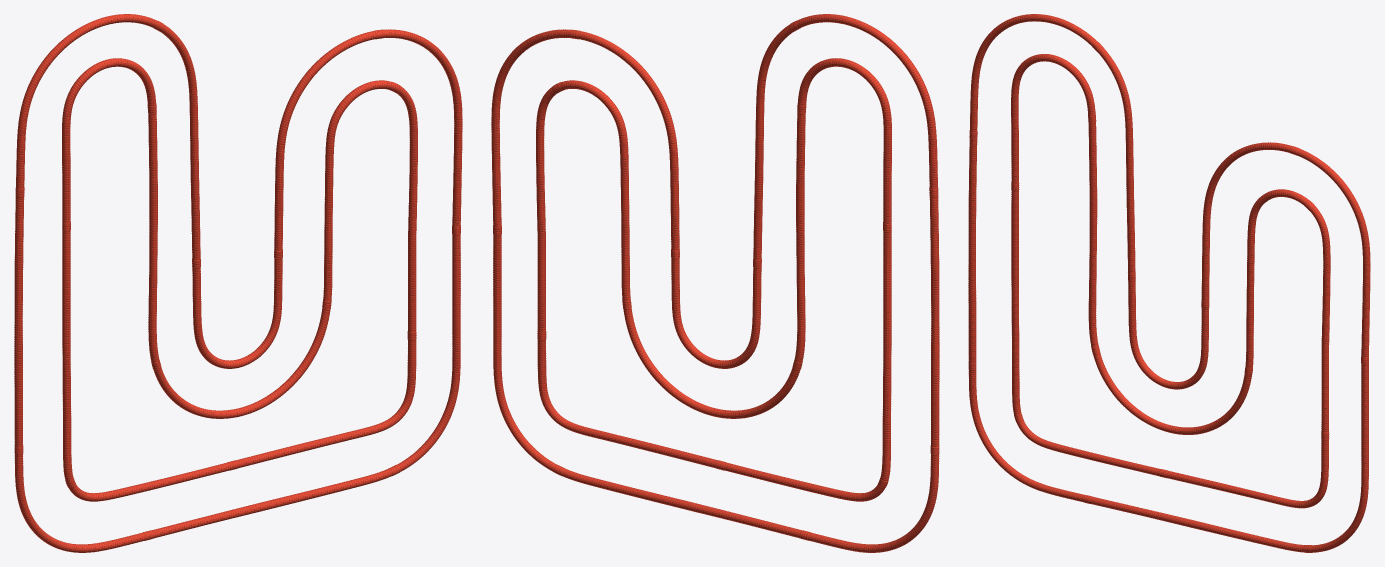
File: ducts.obj
3 renders of one model, left to right at view 1: azimuth 30°, elevation 25°; view 2: azimuth 150°, elevation 25°; view 3: azimuth 330°, elevation 25°, orthographic. The views are drawn at different scales.
Bounding box in the file's own units: 13.81 × 15.72 × 0.2427.
1 material, 1 textured.
